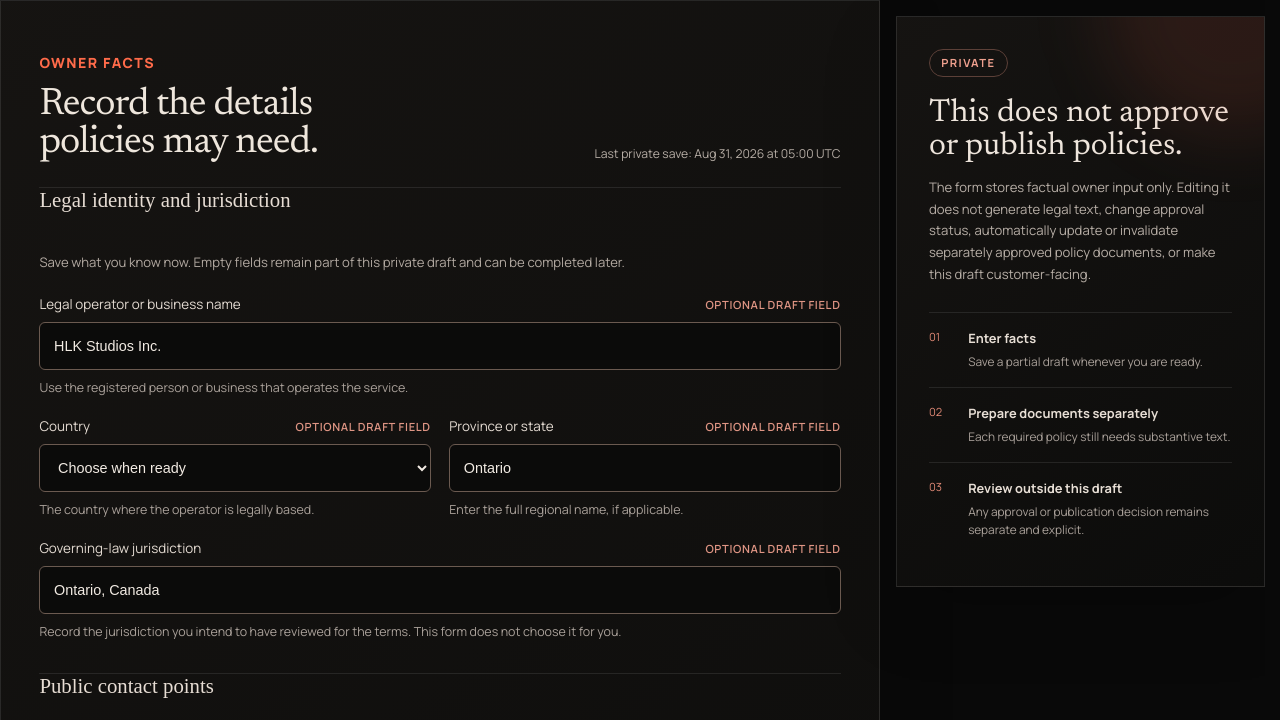
Test: LegalPolicyForm › submits the typed full draft through the action and announces the result
Step 1. Replace the text in the field labelled "Legal operator or business name" with "Northstar Media Ltd." → (440, 346), box [39,322,841,370]
(page scrolled)
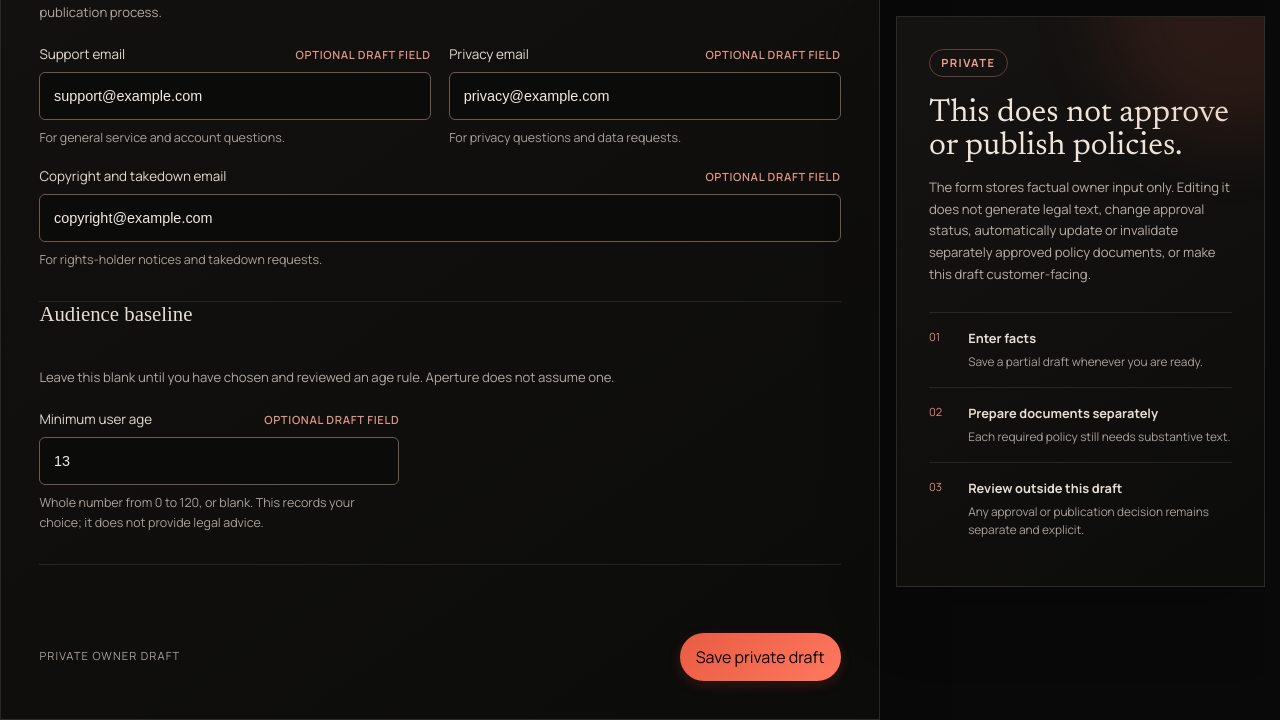
Step 2. Click the button "Save private draft" → click(760, 657), box [680,633,840,681]
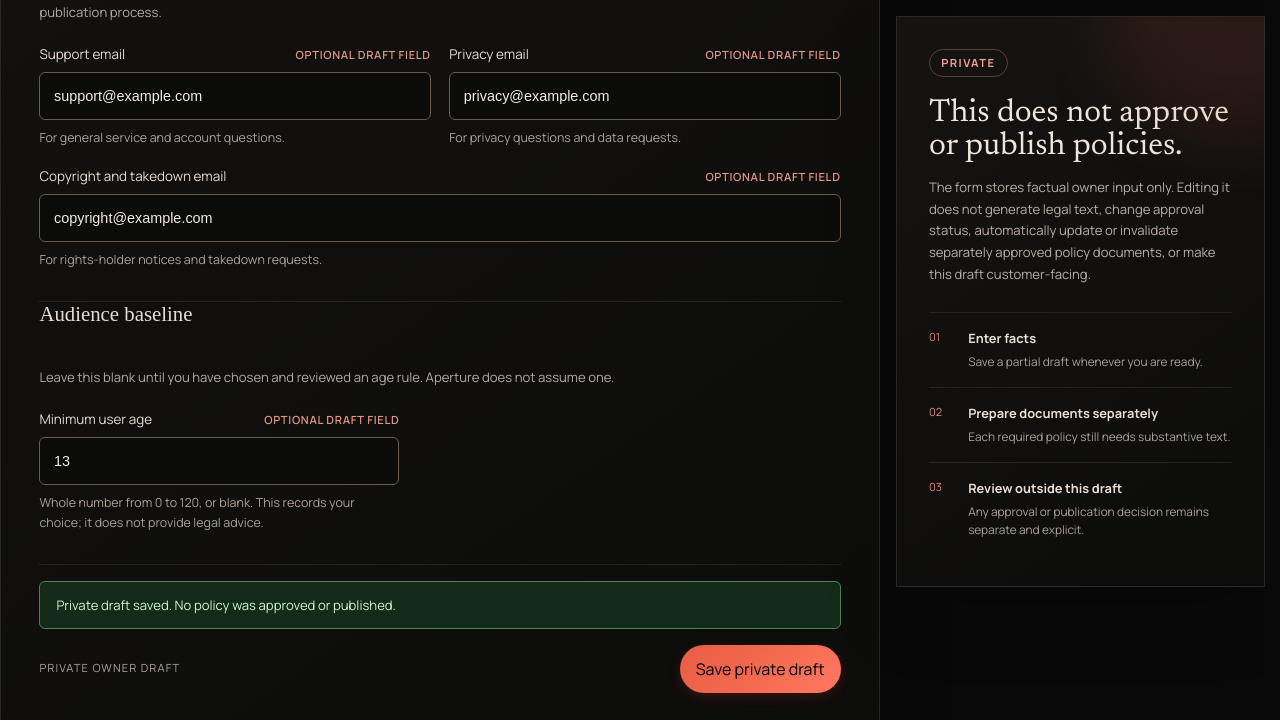
Now the message shows "No policy was approved or published", box [56,596,396,614]
